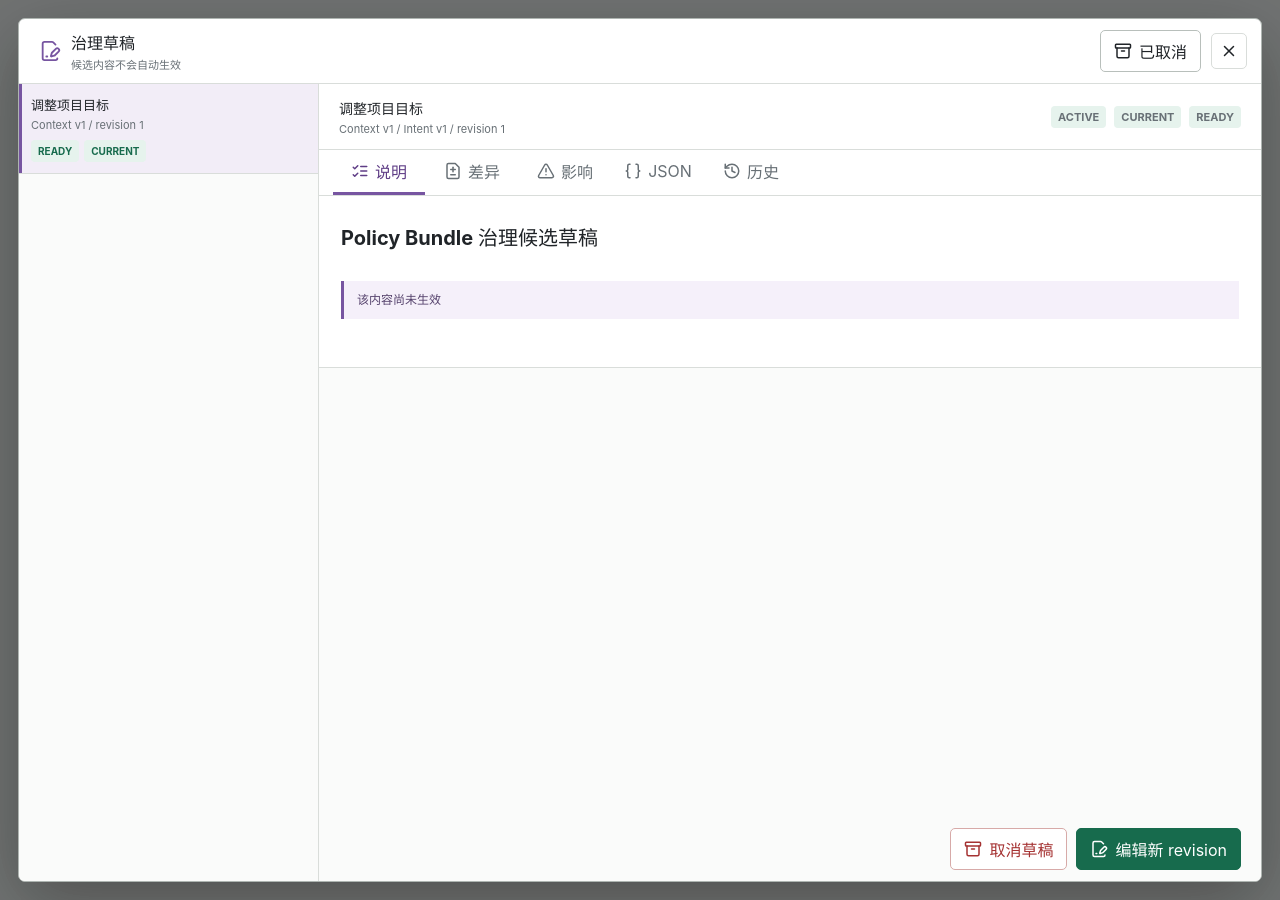
PolicyDraftWorkspace › shows candidate receipt and deterministic diff without a publish action
Check: the 1st text "调整项目目标" is shown, box [31,97,109,113]
Check: the text "该内容尚未生效" is shown, box [341,281,1239,319]
Click the button "差异". click: (472, 172)
box: [426,150,518,195]
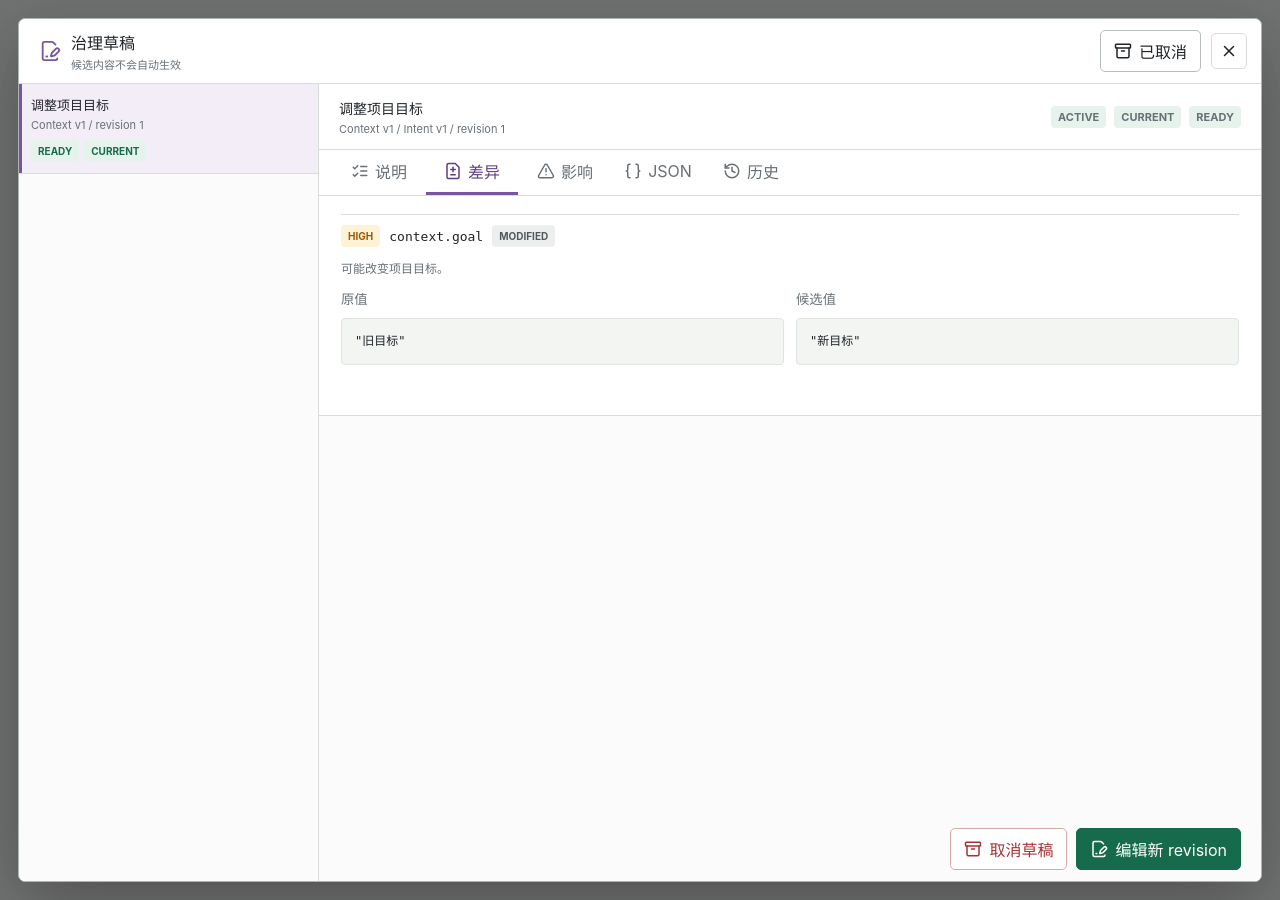
Check: the text "context.goal" is shown, box [389,228,483,244]
Check: the text "可能改变项目目标。" is shown, box [341,261,449,276]
